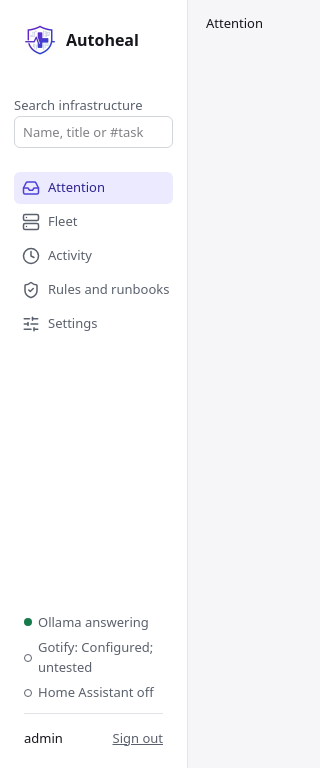
Scenario: does not treat HTTP 403 (bad_csrf) as confirmation of logout
The width and height of the screenshot is (320, 768).
Click the button "Sign out".
click(138, 738)  # box [112,728,163,748]
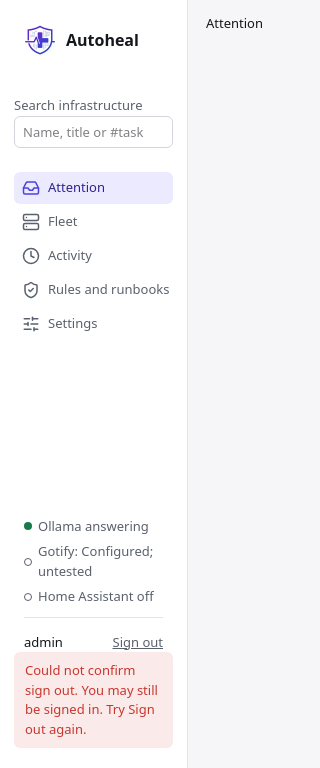
Expected: the button "Sign out" is enabled, [112,632,163,652]
Result: the message reads "Could not confirm sign out. You may still be signed in. Try Sign out again." at [25,661,158,738]
